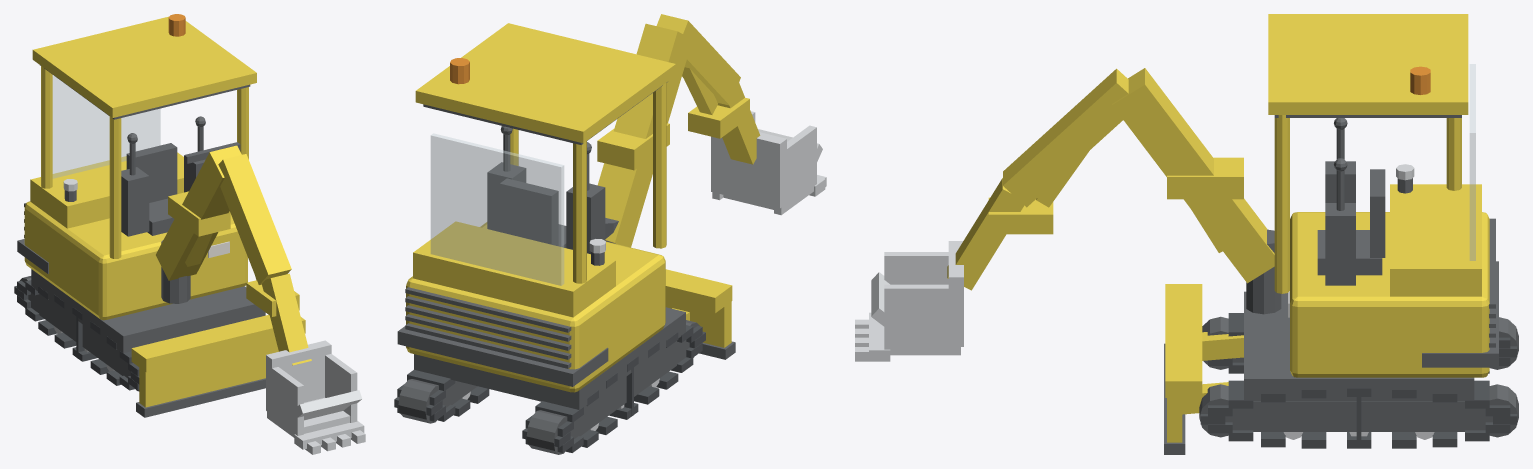
Rendered from tool-hire-depot-and-plant-yard-tool-hire-depot-and-pla-8120e9d5__35324.glb.
3 renders of one model, left to right at view 1: azimuth 30°, elevation 25°; view 2: azimuth 150°, elevation 25°; view 3: azimuth 270°, elevation 25°, orthographic. The views are drawn at different scales.
Parts seen in each view (by area): view 1: tool-hire-depot-and-plant-yard-mini-excavator, boom, bucket; view 2: tool-hire-depot-and-plant-yard-mini-excavator, boom, bucket; view 3: tool-hire-depot-and-plant-yard-mini-excavator, boom, bucket.
Part boxes in pixels (bbox=[...]): tool-hire-depot-and-plant-yard-mini-excavator: bbox=[14, 14, 305, 417]; boom: bbox=[156, 145, 311, 365]; bucket: bbox=[266, 340, 365, 454]; tool-hire-depot-and-plant-yard-mini-excavator: bbox=[394, 23, 735, 454]; boom: bbox=[597, 14, 760, 247]; bucket: bbox=[711, 111, 826, 215]; tool-hire-depot-and-plant-yard-mini-excavator: bbox=[1164, 14, 1518, 454]; boom: bbox=[947, 68, 1274, 290]; bucket: bbox=[855, 241, 963, 361].
Size of the model in its own units: 1.54 by 2.63 by 4.32.
